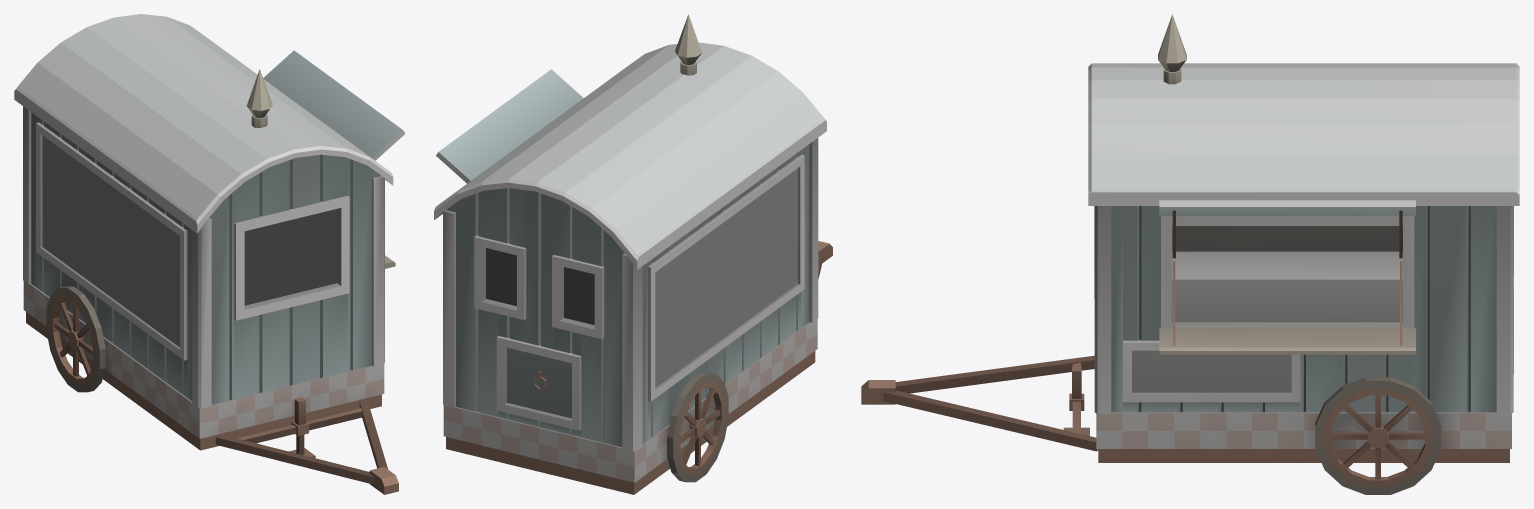
Rendered from icecream.glb.
3 views of the same model, side by side, from view 1: azimuth 30°, elevation 25°; view 2: azimuth 150°, elevation 25°; view 3: azimuth 270°, elevation 25° (orthographic). The views are drawn at different scales.
Visible parts, largest first — view 1: icecream; view 2: icecream; view 3: icecream.
Boxes of the visible parts, x1,y1,x2,y2 form: icecream: (14, 14, 405, 494); icecream: (434, 14, 832, 494); icecream: (861, 14, 1519, 494).
Size of the model in its own units: 1.99 by 2.84 by 4.
